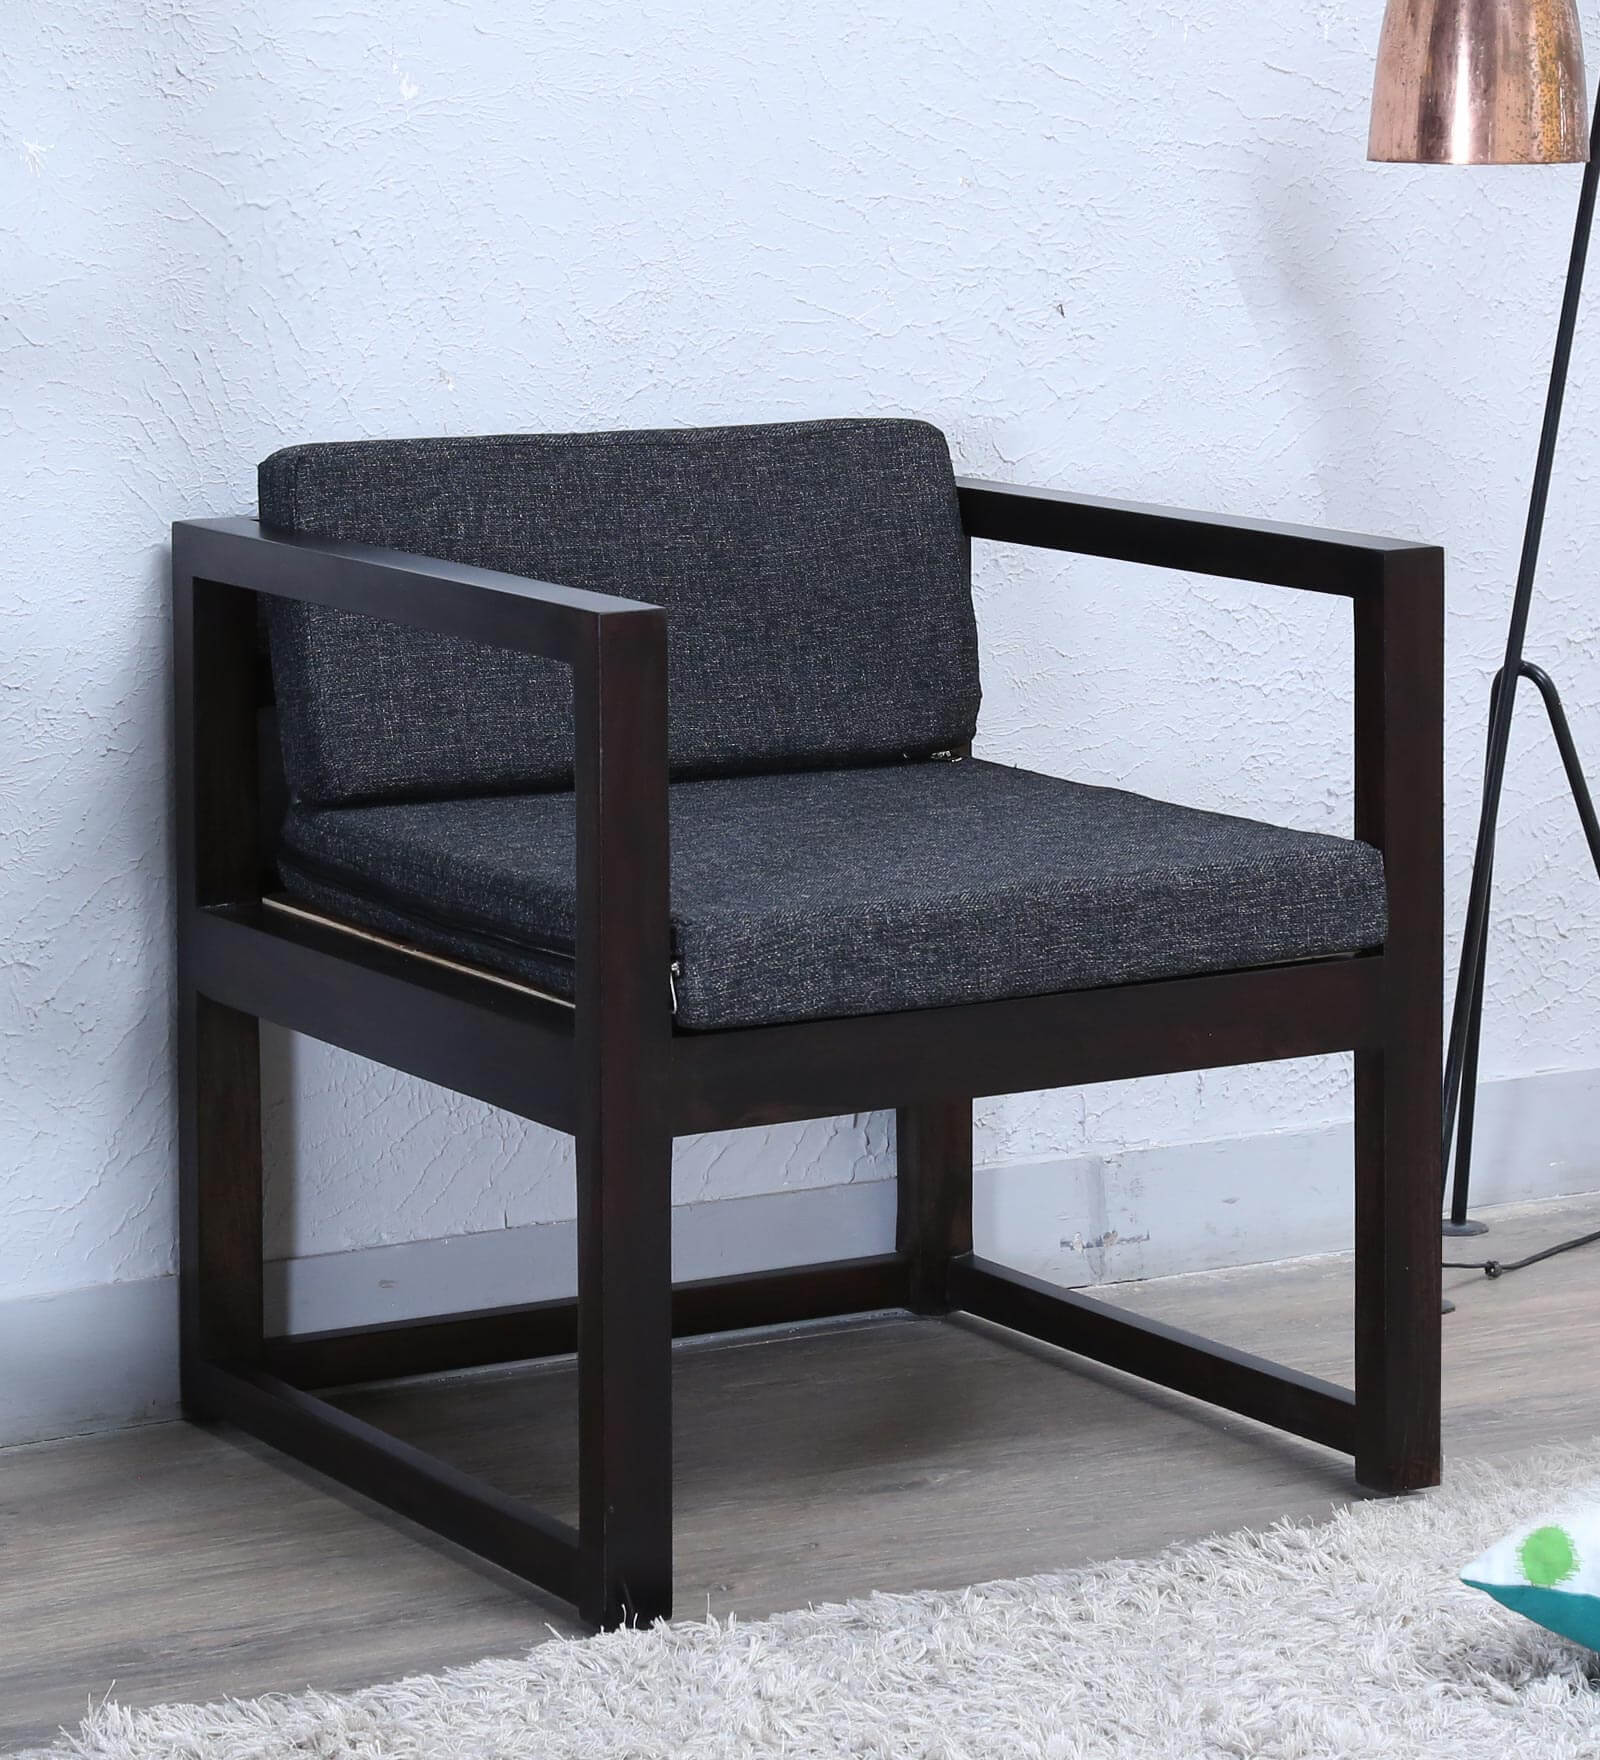Avian Arm Chair in Warm Chestnut Finish by Woodsworth: (141, 385, 1479, 1631)
